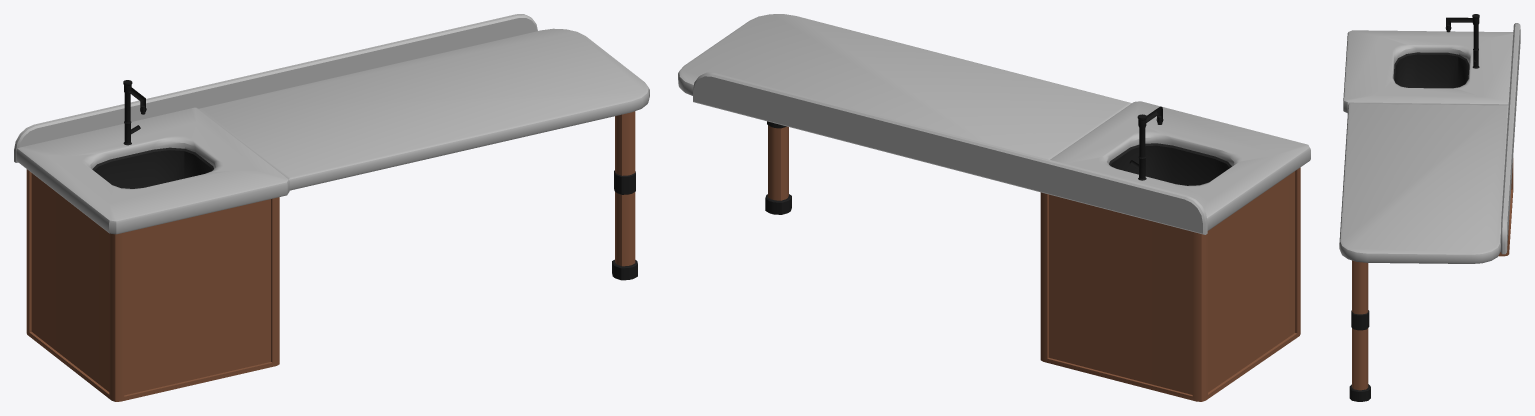
File: chemistry-lab-bench.glb
The picture shows the model from 3 angles, left to right: view 1: azimuth 30°, elevation 25°; view 2: azimuth 150°, elevation 25°; view 3: azimuth 270°, elevation 25°; orthographic projection. The views are drawn at different scales.
Visible parts, largest first — view 1: Object_9, Object_10; view 2: Object_9, Object_10; view 3: Object_9, Object_10.
Part boxes in pixels (left/top/right/bottom): Object_9: left=14, top=14, right=649, bottom=401; Object_10: left=123, top=80, right=146, bottom=145; Object_9: left=678, top=14, right=1310, bottom=401; Object_10: left=1129, top=106, right=1163, bottom=180; Object_9: left=1339, top=23, right=1520, bottom=401; Object_10: left=1445, top=14, right=1479, bottom=68.
Size of the model in its own units: 2.41 by 1.04 by 0.8237.
Materials: 2 (2 with a texture image).
